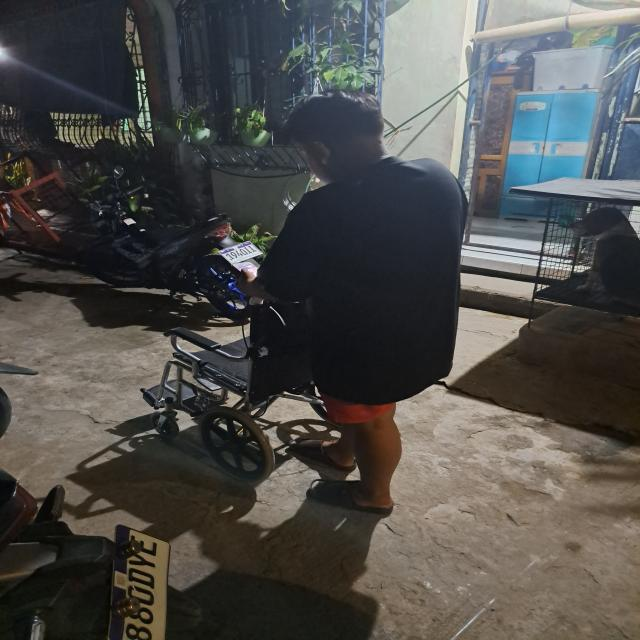wheelchairs: (136, 308, 385, 482)
